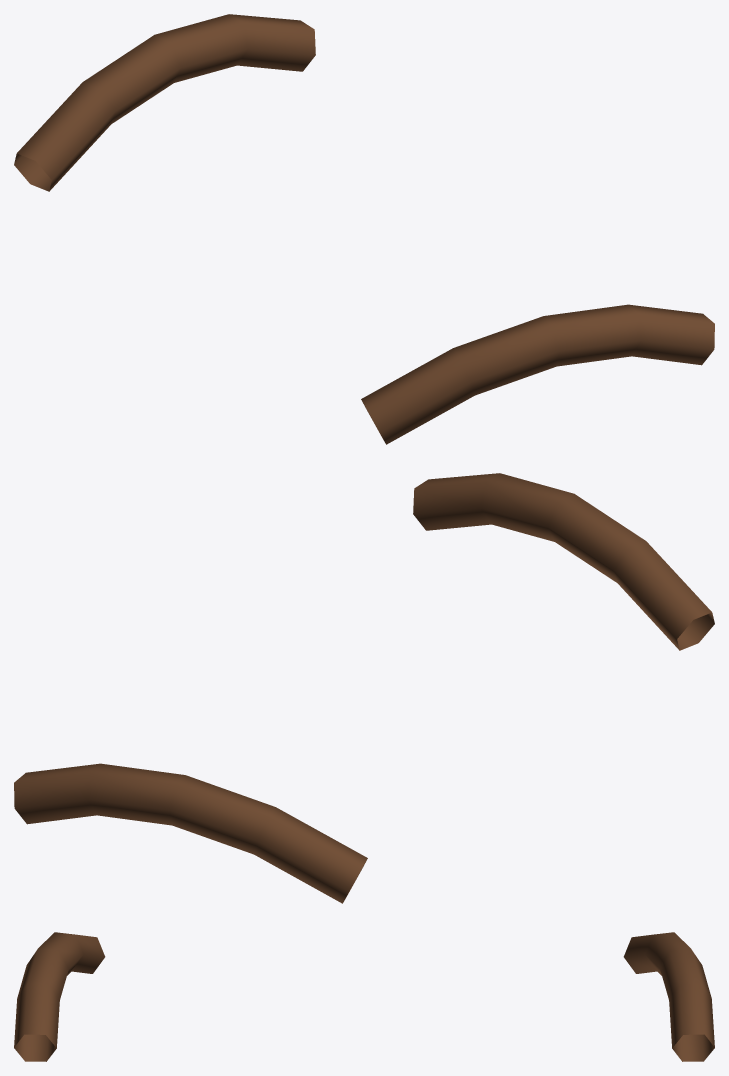
The model's file is kpfe_pylon.obj.
3 renders of one model, top to bottom at view 1: azimuth 30°, elevation 25°; view 2: azimuth 150°, elevation 25°; view 3: azimuth 270°, elevation 25°, orthographic. The views are drawn at different scales.
Visible parts, largest first — view 1: kpfe_pylon; view 2: kpfe_pylon; view 3: kpfe_pylon.
Part boxes in pixels (box(x1,y1,x2,y2)): kpfe_pylon: box(14, 14, 714, 444); kpfe_pylon: box(14, 473, 714, 903); kpfe_pylon: box(14, 932, 714, 1061).
Bounding box in the file's own units: 1.05 × 0.3126 × 2.45.
